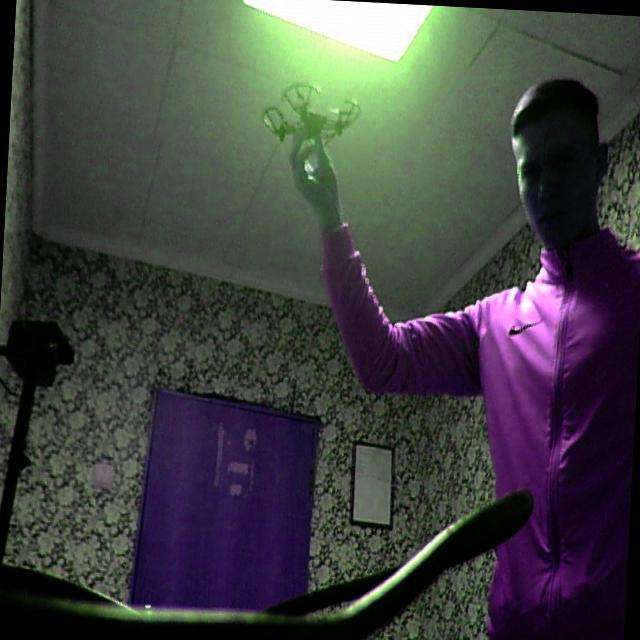drone: (256, 76, 360, 164)
